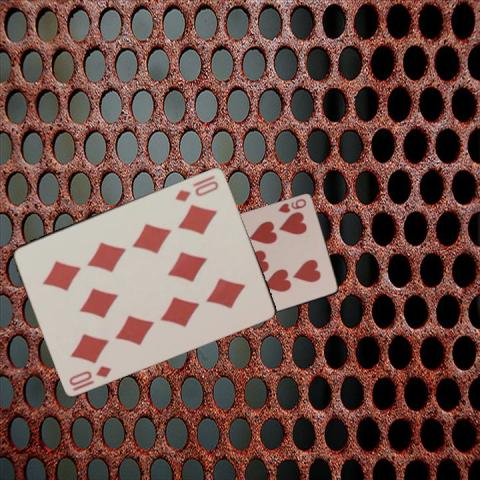10d: (66, 362, 113, 392), (172, 177, 220, 203)
9h: (275, 196, 307, 215)
